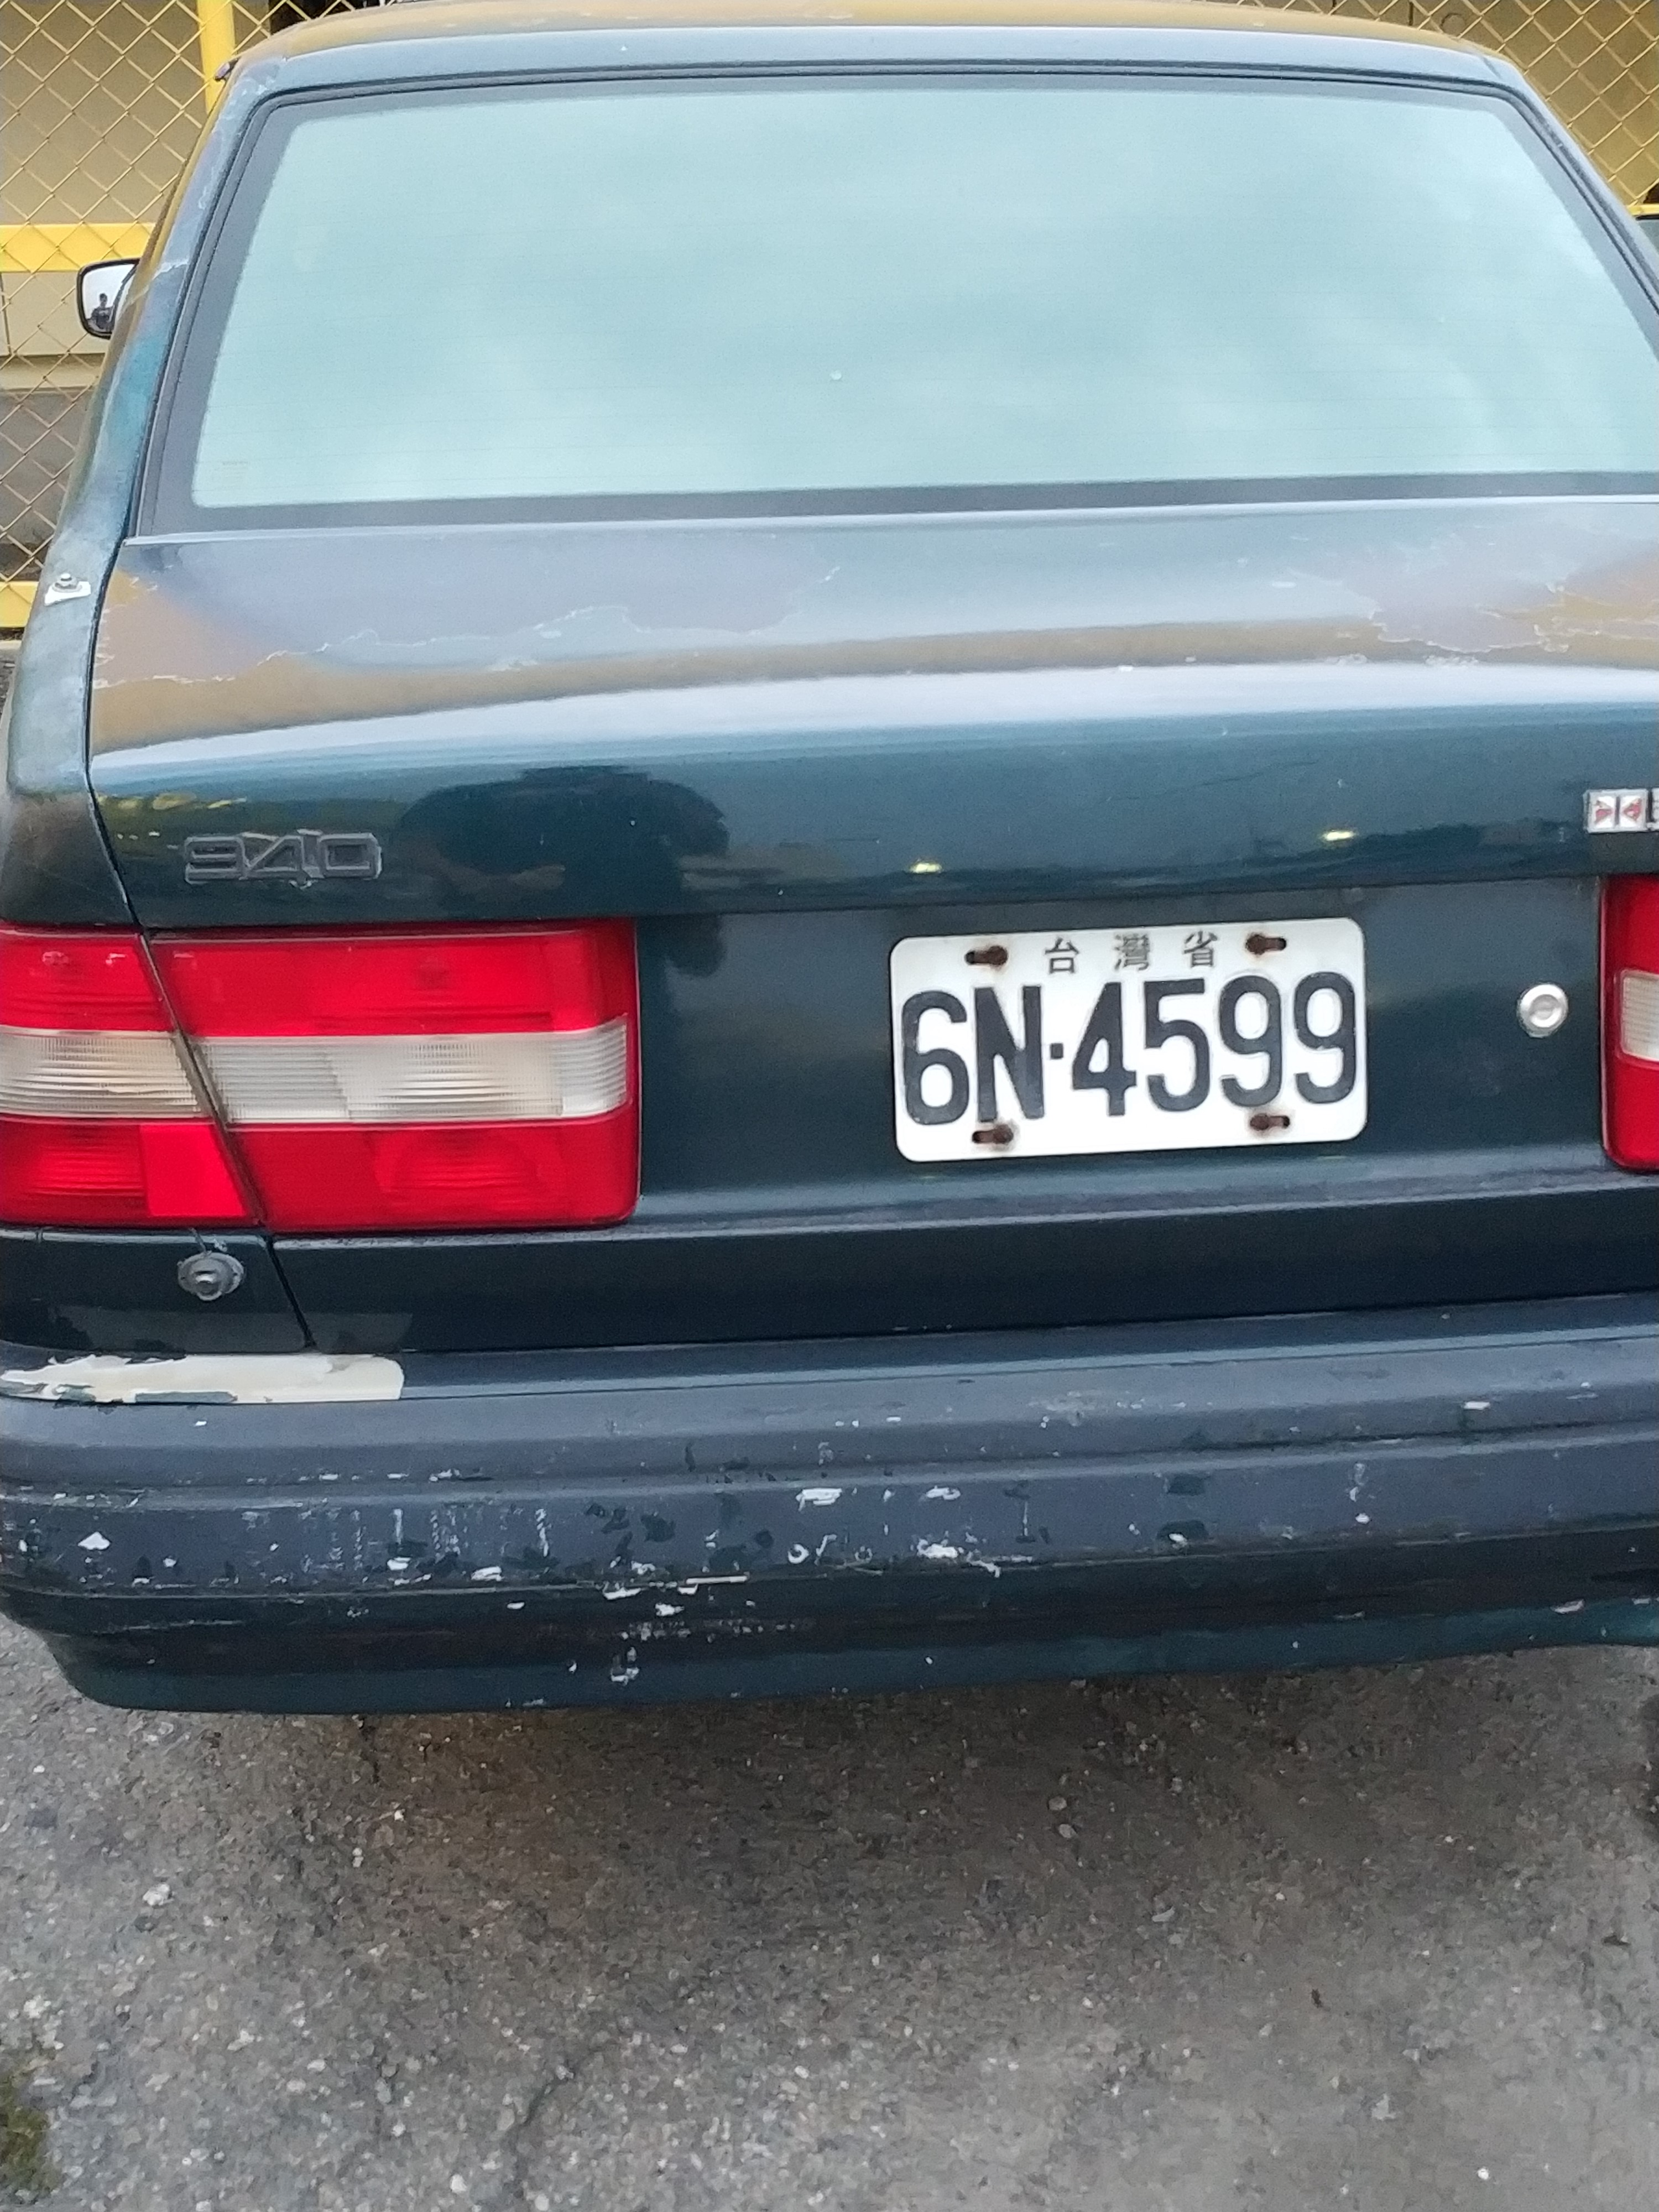car: (2, 3, 1659, 1700)
car_card: (892, 916, 1384, 1162)
